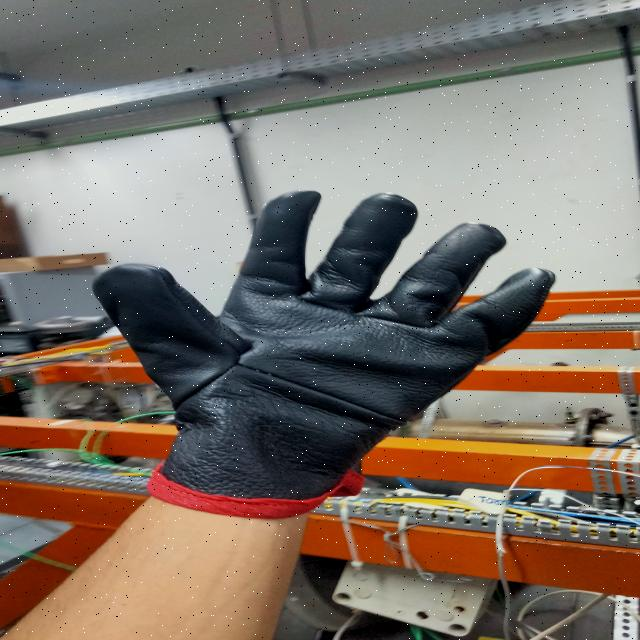Gloves: (104, 192, 539, 512)
